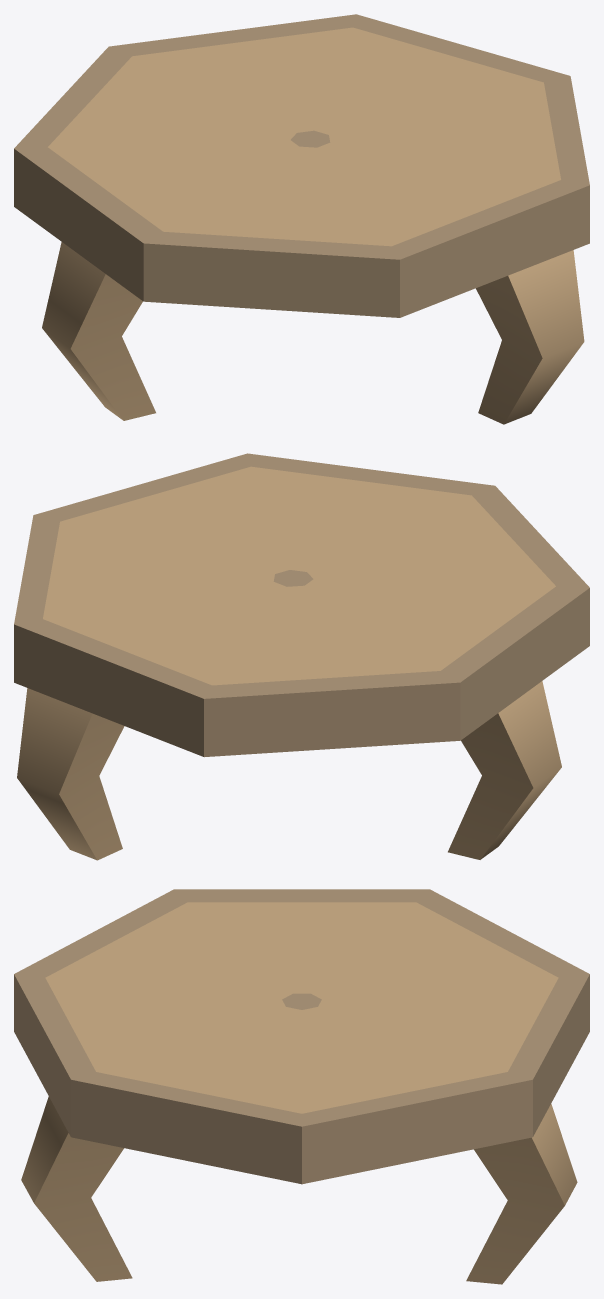
The model's file is ShortTabel.fbx.
The picture shows the model from 3 angles, top to bottom: view 1: azimuth 30°, elevation 25°; view 2: azimuth 150°, elevation 25°; view 3: azimuth 270°, elevation 25°; orthographic projection.
Parts seen in each view (by area): view 1: pCube4; view 2: pCube4; view 3: pCube4.
Part boxes in pixels (bbox=[...]): pCube4: bbox=[14, 14, 589, 424]; pCube4: bbox=[14, 453, 589, 860]; pCube4: bbox=[14, 889, 589, 1284].
Bounding box in the file's own units: 5.82 × 2.45 × 5.71.
